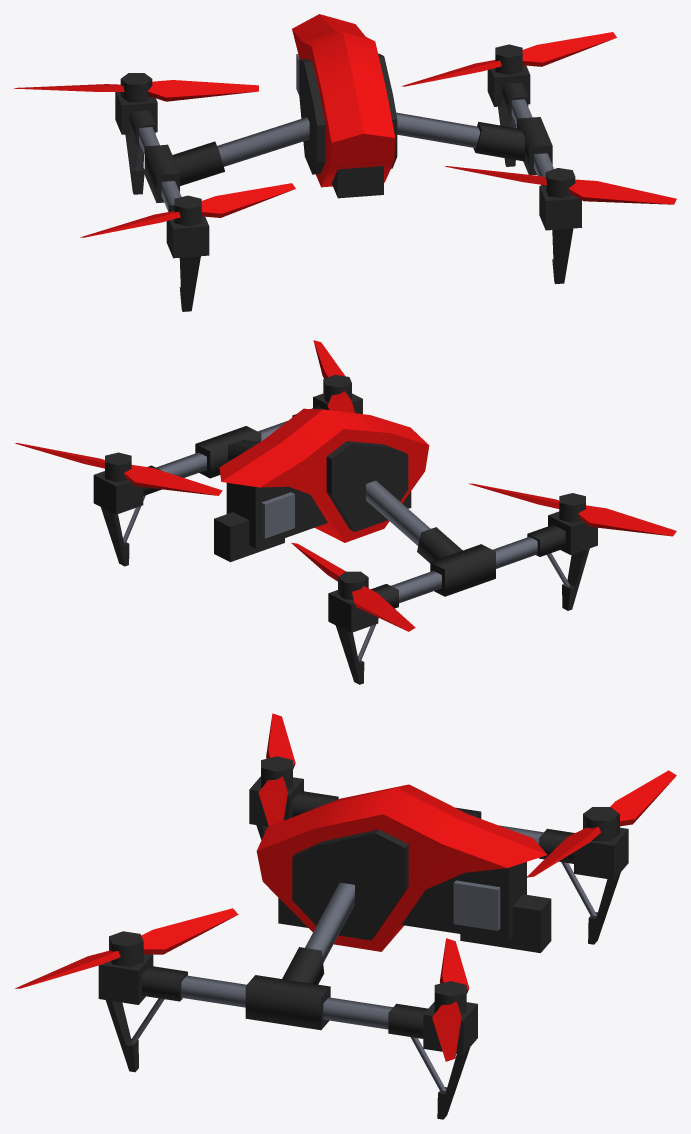
Rendered from interior_E_007.fbx.
3 views of the same model, one above another, from view 1: azimuth 30°, elevation 25°; view 2: azimuth 150°, elevation 25°; view 3: azimuth 270°, elevation 25° (orthographic). The views are drawn at different scales.
Parts seen in each view (by area): view 1: interior_E_007; view 2: interior_E_007; view 3: interior_E_007.
Part boxes in pixels (box(x1,y1,x2,y2)): interior_E_007: box(14, 14, 676, 311); interior_E_007: box(15, 340, 676, 684); interior_E_007: box(15, 713, 676, 1119).
Size of the model in its own units: 127 by 38.12 by 103.
